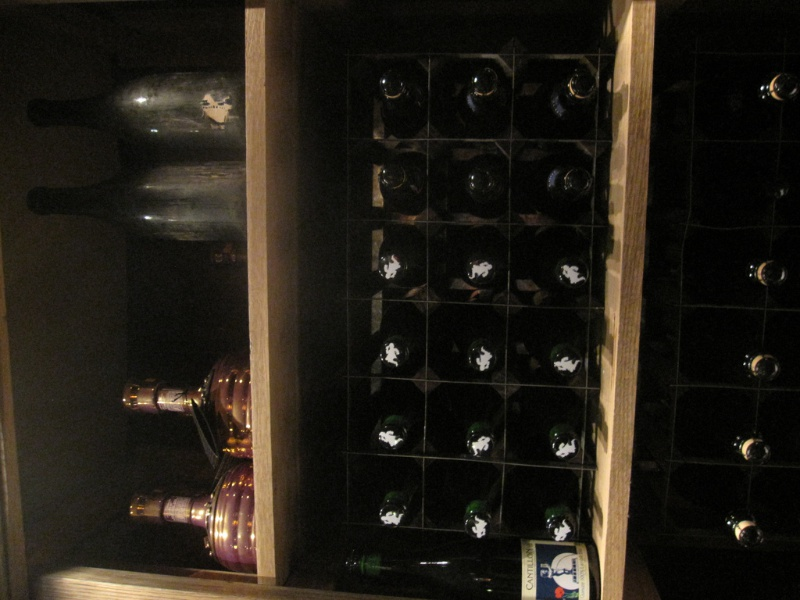wine: (343, 42, 614, 600), (11, 67, 261, 580), (694, 41, 800, 576)
